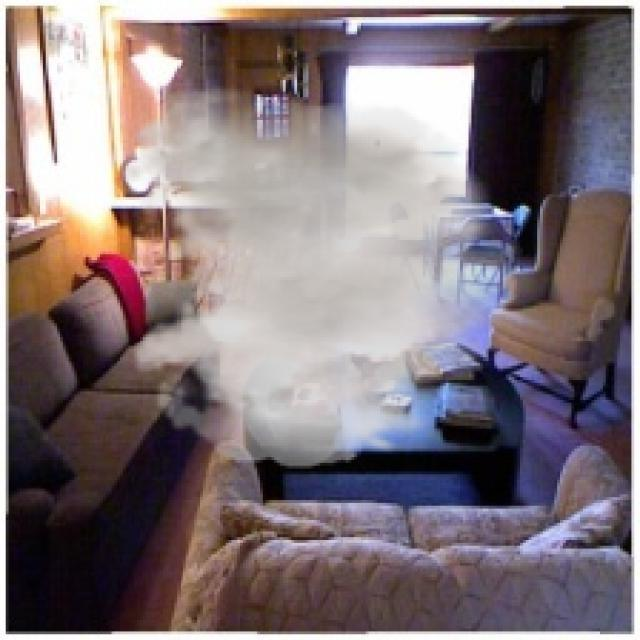Smoke: (120, 86, 546, 468)
